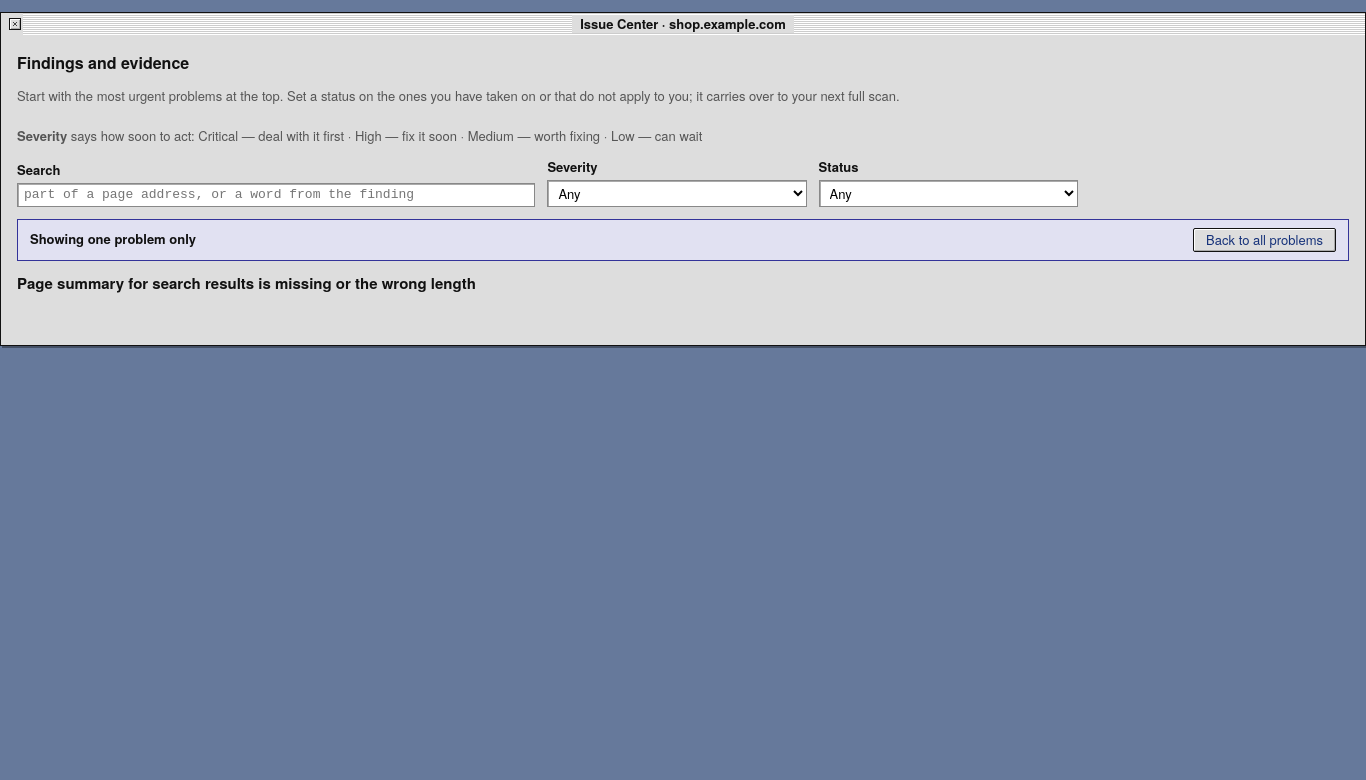
it: the Issue Center › names the way out of an empty filter and clears it
The image size is (1366, 780).
Step 1. Type "nothing-matches-this" into the field labelled "Search" → (276, 195), box [17,183,535,207]
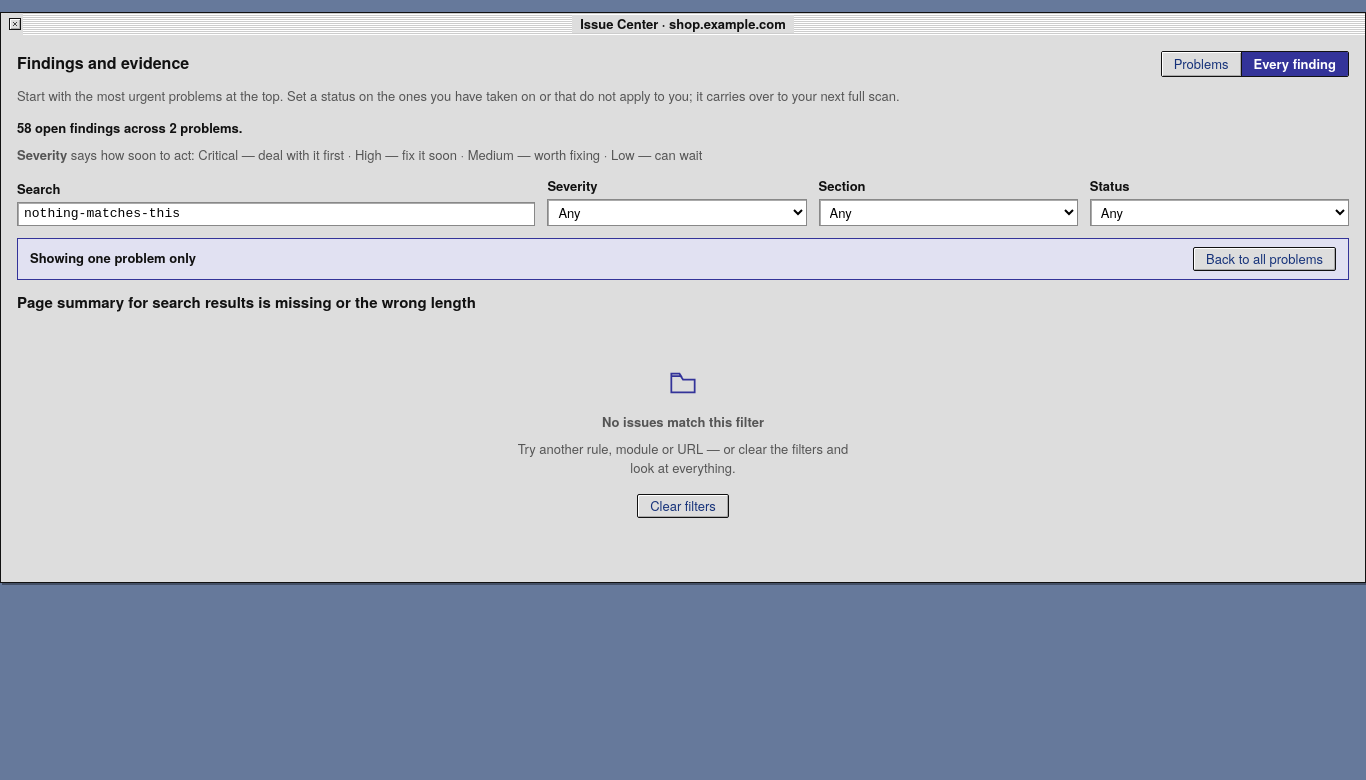
Result: the text "No issues match this filter" is shown at [602,413,764,432]
Result: the text "clear the filters and look at everything" is shown at [518,439,848,477]
Step 2. Click the button "Clear filters" → (683, 506), box [637,494,729,518]
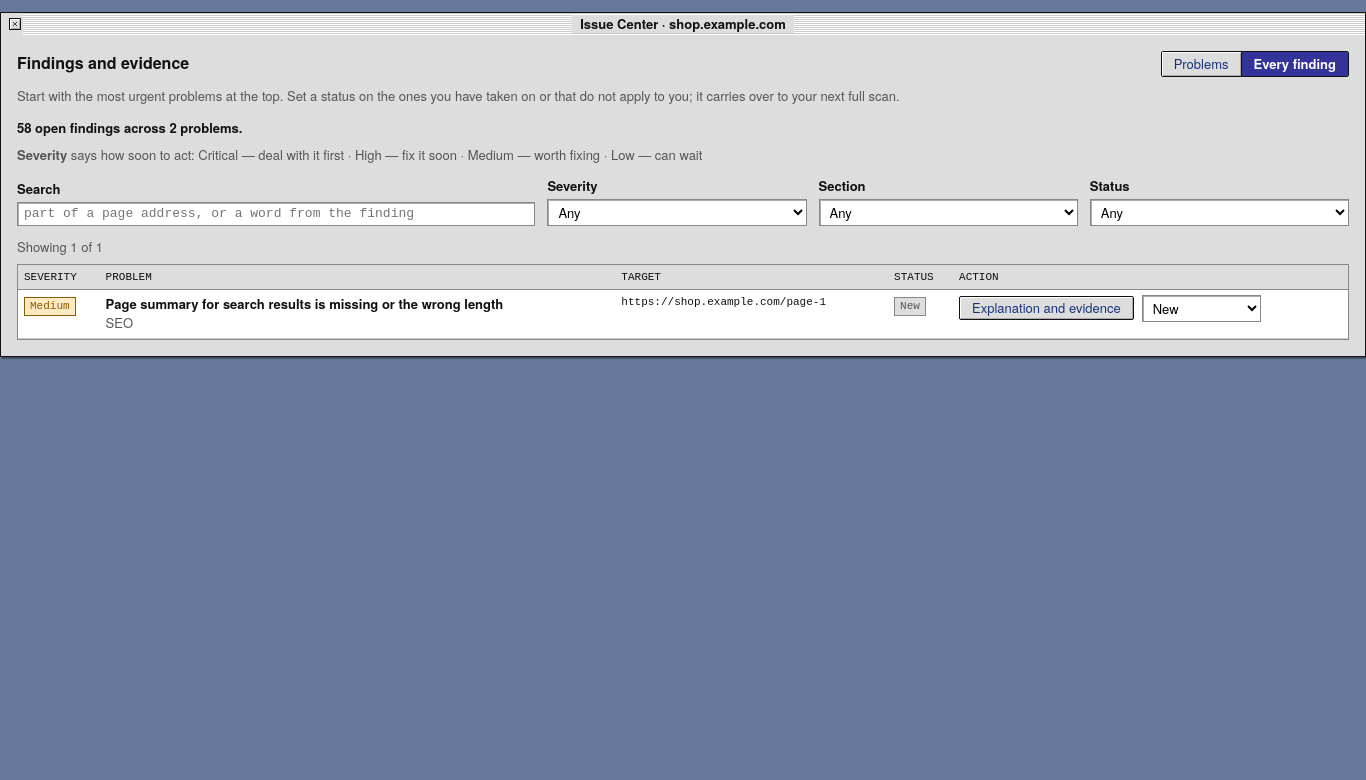
Result: the text "Showing 1 of 1" is shown at [17,237,103,256]
Result: the text "No issues match this filter" is gone
